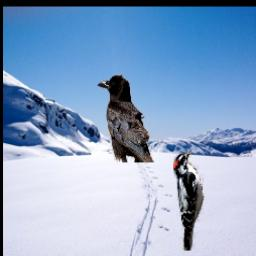Crow: (97, 74, 154, 163)
Woodpecker: (172, 150, 204, 251)
